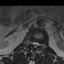CCS_normal: (34, 40, 36, 49)
LFS_stenosis: (39, 41, 41, 47)
LLS_normal: (36, 40, 39, 48)
RFS_stenosis: (30, 39, 32, 46)
RLS_normal: (32, 40, 34, 47)
